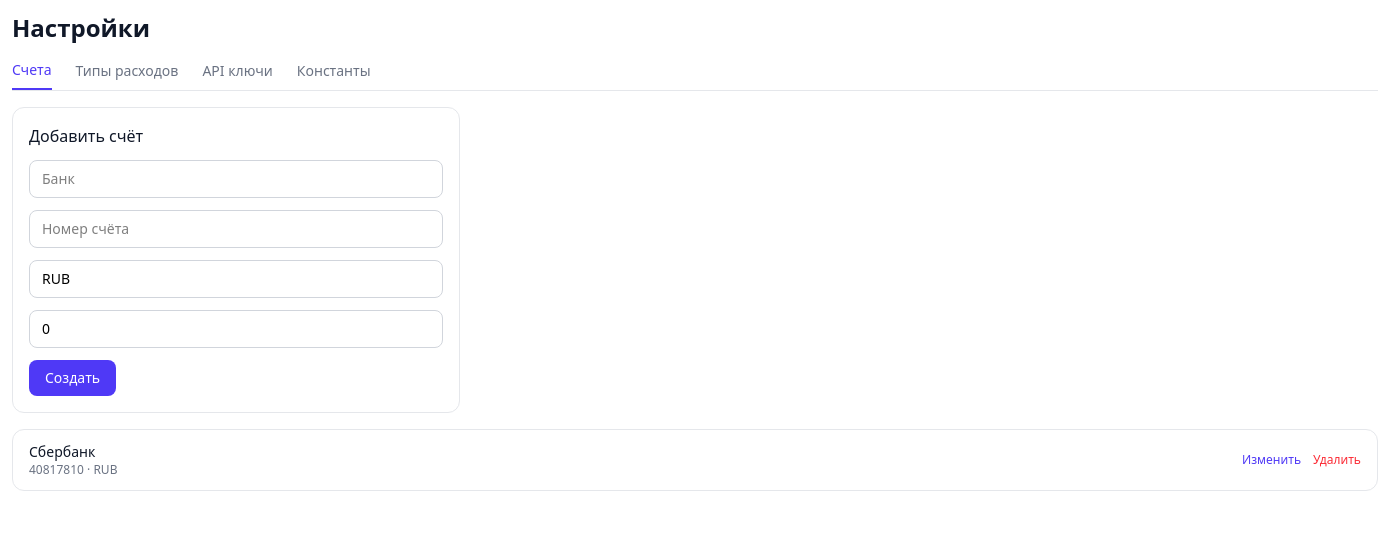
Test case: Settings — ExpenseTypesTab › renders existing expense types with name and id
Click the button "Типы расходов".
click(127, 75)  # box top-left (76, 60), bottom-right (178, 90)
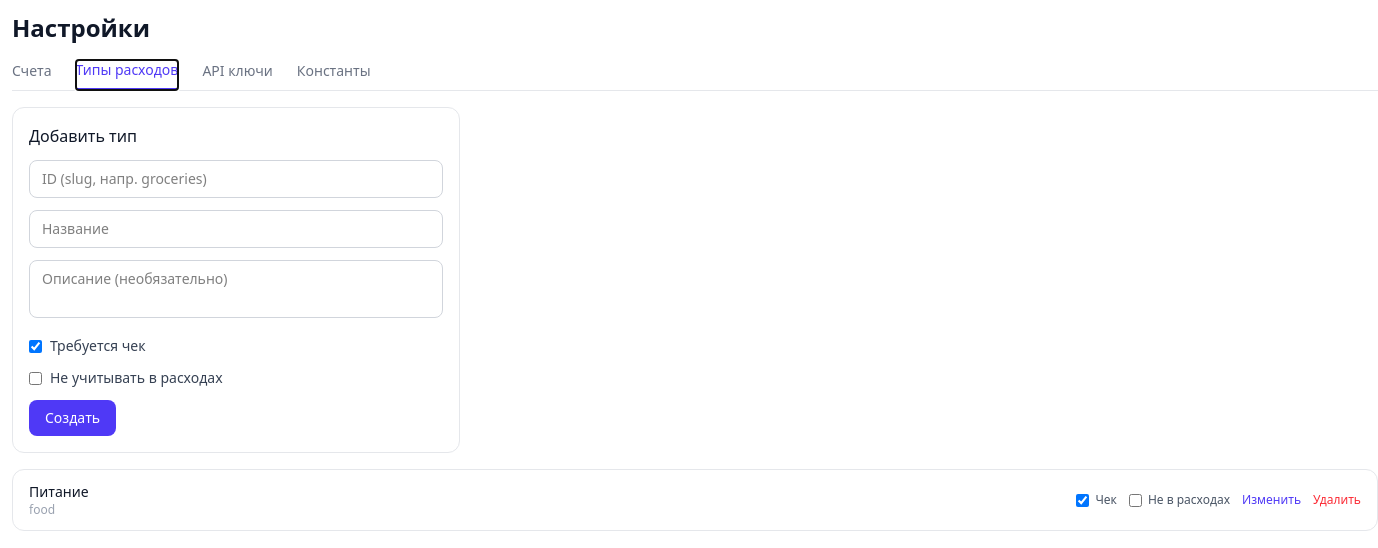
Now the text "Питание" is shown, box top-left (29, 482), bottom-right (89, 502)
Now the text "food" is shown, box top-left (29, 501), bottom-right (55, 518)
